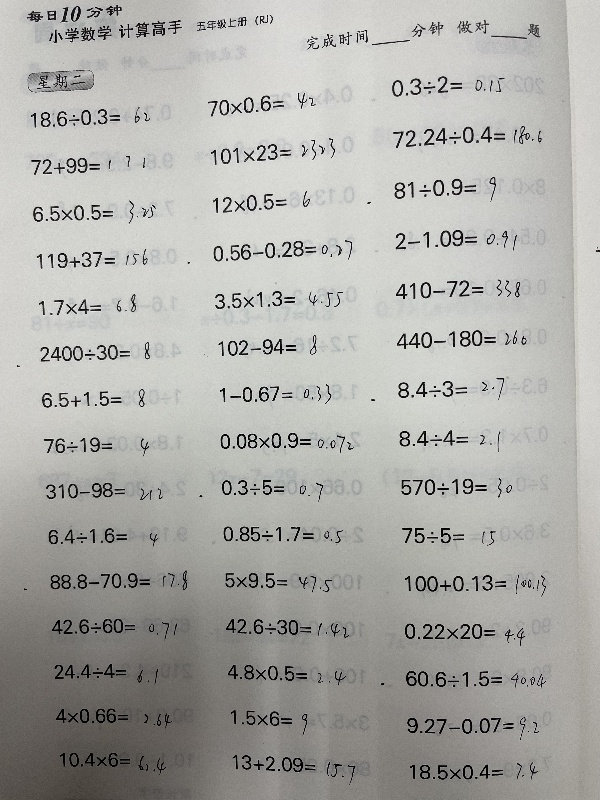equation: (227, 747, 357, 789), (394, 568, 549, 601), (400, 614, 526, 652), (399, 662, 549, 693), (400, 710, 550, 741), (399, 757, 549, 788), (388, 121, 544, 149), (221, 612, 350, 645), (48, 567, 191, 596), (43, 611, 186, 640), (214, 520, 349, 550), (217, 655, 352, 685), (208, 236, 355, 263), (46, 658, 168, 689), (51, 703, 173, 734), (49, 745, 171, 776), (214, 566, 336, 597), (390, 224, 519, 253), (206, 136, 338, 164), (215, 427, 356, 453), (390, 172, 500, 205), (390, 274, 523, 301), (210, 285, 345, 311), (27, 199, 158, 225), (391, 325, 529, 349), (386, 70, 507, 97), (392, 376, 513, 403), (220, 705, 319, 738), (214, 330, 319, 361), (396, 521, 501, 552), (41, 477, 166, 503), (396, 474, 516, 501), (216, 380, 335, 407), (395, 426, 504, 455), (35, 337, 153, 363), (26, 104, 152, 128), (216, 474, 326, 501), (47, 526, 160, 552), (26, 152, 148, 176), (32, 246, 150, 270), (36, 386, 149, 411), (42, 433, 155, 458), (203, 91, 318, 115), (208, 189, 313, 215), (35, 293, 142, 317)
